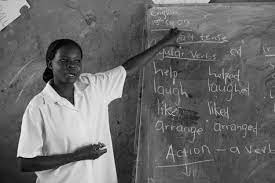pointing_gesture: (162, 27, 185, 49)
